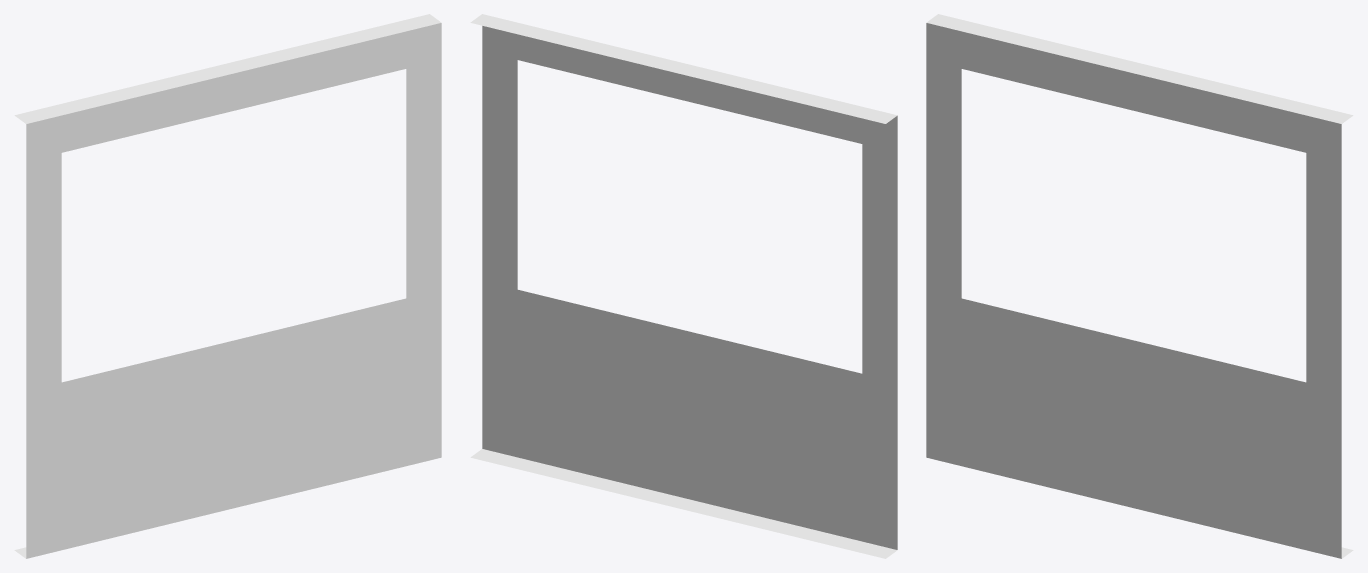
The model's file is Int-V1WindowframePlain.fbx.
The picture shows the model from 3 angles, left to right: view 1: azimuth 30°, elevation 25°; view 2: azimuth 150°, elevation 25°; view 3: azimuth 330°, elevation 25°; orthographic projection.
Parts seen in each view (by area): view 1: Int-V1WindowframePlain; view 2: Int-V1WindowframePlain; view 3: Int-V1WindowframePlain.
Boxes of the visible parts, x1,y1,x2,y2 form: Int-V1WindowframePlain: (14,14,441,558); Int-V1WindowframePlain: (470,14,897,558); Int-V1WindowframePlain: (926,14,1353,558).
Size of the model in its own units: 200 by 200 by 10.
